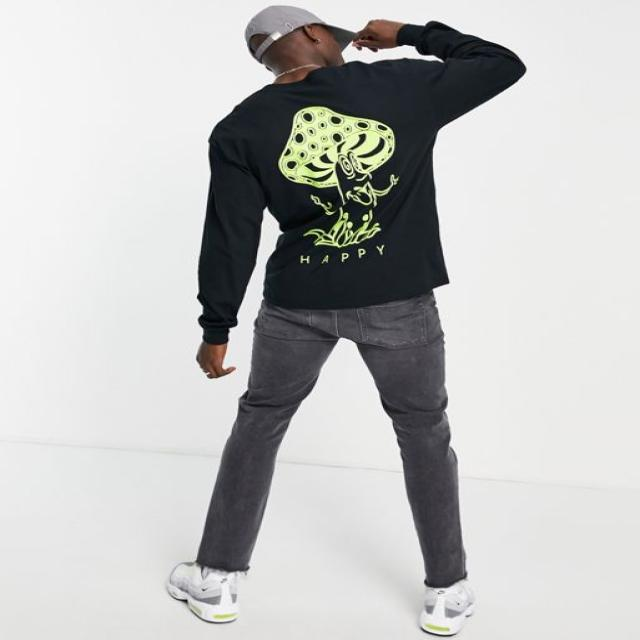tshirt: (191, 17, 528, 343)
